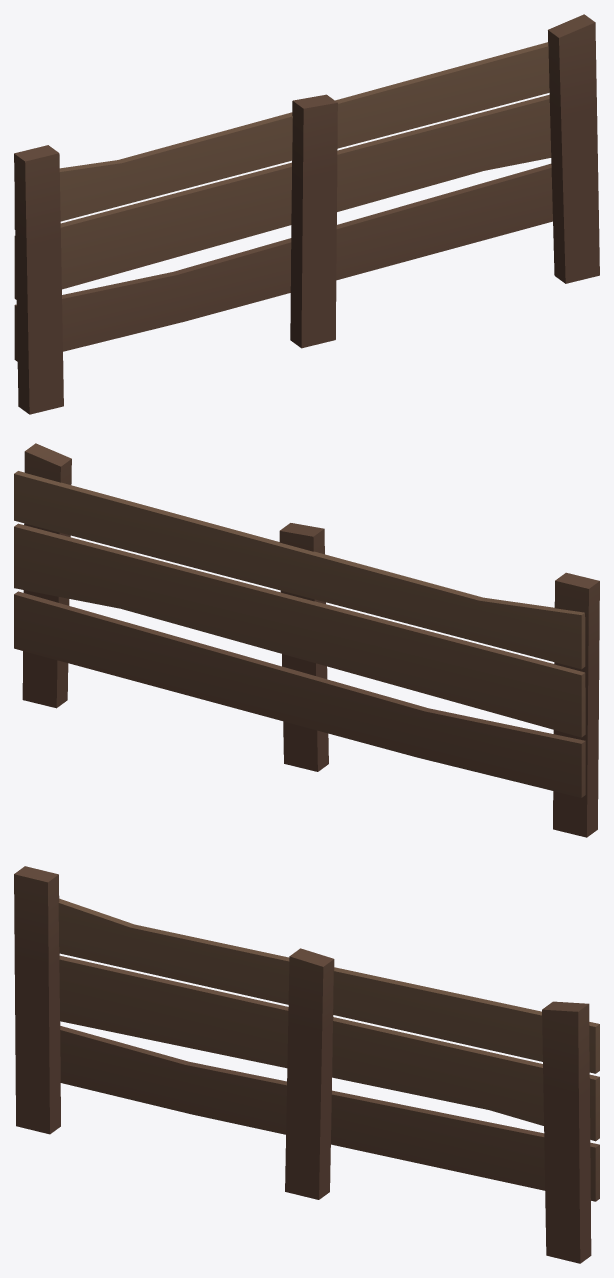
Rendered from Mines Wood Fence3 4M.glb.
The picture shows the model from 3 angles, top to bottom: view 1: azimuth 30°, elevation 25°; view 2: azimuth 150°, elevation 25°; view 3: azimuth 330°, elevation 25°; orthographic projection.
Parts seen in each view (by area): view 1: Mines Wood Fence3 4M; view 2: Mines Wood Fence3 4M; view 3: Mines Wood Fence3 4M.
Boxes of the visible parts, <box> form: Mines Wood Fence3 4M: <box>14,14,599,414</box>; Mines Wood Fence3 4M: <box>14,443,599,837</box>; Mines Wood Fence3 4M: <box>14,866,599,1263</box>.
Size of what is drawn, in the model's own units: 3.87 by 1.62 by 0.1883.
Materials: 1 (1 with a texture image).
